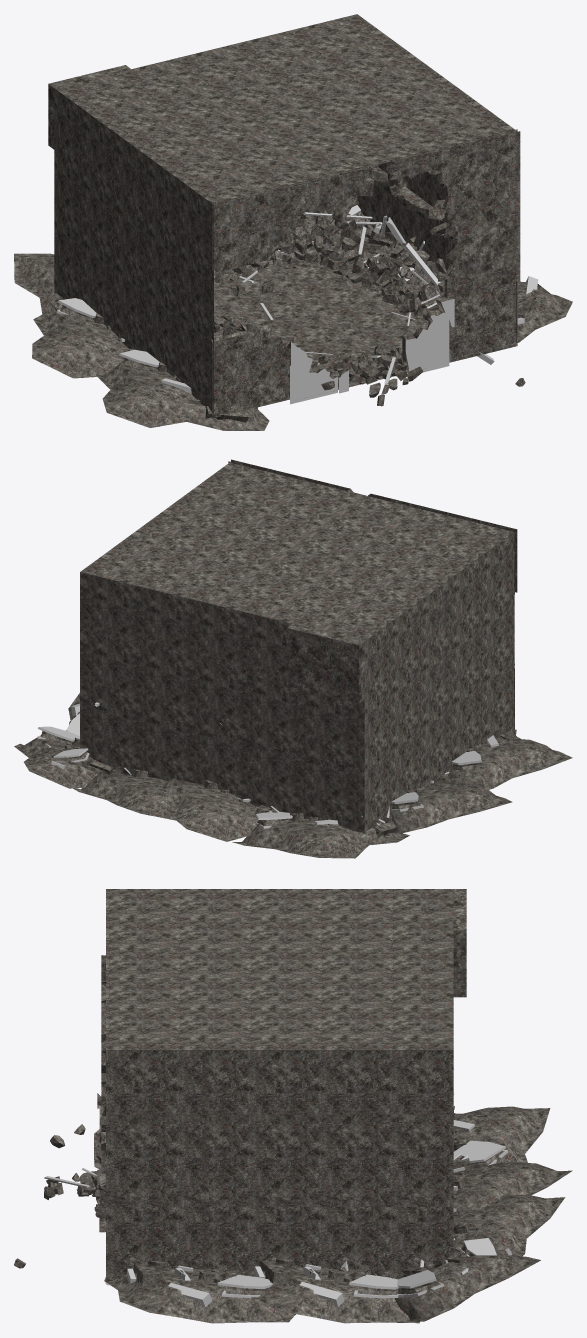
File: Willarea.fbx
3 views of the same model, one above another, from view 1: azimuth 30°, elevation 25°; view 2: azimuth 150°, elevation 25°; view 3: azimuth 270°, elevation 25° (orthographic). The views are drawn at different scales.
Parts seen in each view (by area): view 1: LODGroup_1_MainMesh_1_SubMesh_5, LODGroup_1_MainMesh_1_SubMesh_1, LODGroup_1_MainMesh_1_SubMesh_3, LODGroup_1_MainMesh_1_SubMesh_4, LODGroup_1_MainMesh_1_SubMesh_2; view 2: LODGroup_1_MainMesh_1_SubMesh_5, LODGroup_1_MainMesh_1_SubMesh_1, LODGroup_1_MainMesh_1_SubMesh_2; view 3: LODGroup_1_MainMesh_1_SubMesh_5, LODGroup_1_MainMesh_1_SubMesh_1, LODGroup_1_MainMesh_1_SubMesh_2.
Boxes of the visible parts, box(x1,y1,x2,y2) form: LODGroup_1_MainMesh_1_SubMesh_5: box(48, 14, 520, 418); LODGroup_1_MainMesh_1_SubMesh_1: box(14, 145, 572, 430); LODGroup_1_MainMesh_1_SubMesh_3: box(290, 299, 454, 404); LODGroup_1_MainMesh_1_SubMesh_4: box(239, 212, 494, 384); LODGroup_1_MainMesh_1_SubMesh_2: box(56, 205, 538, 393); LODGroup_1_MainMesh_1_SubMesh_5: box(80, 459, 517, 834); LODGroup_1_MainMesh_1_SubMesh_1: box(14, 586, 572, 858); LODGroup_1_MainMesh_1_SubMesh_2: box(37, 703, 498, 828); LODGroup_1_MainMesh_1_SubMesh_5: box(97, 889, 466, 1280); LODGroup_1_MainMesh_1_SubMesh_1: box(14, 1050, 572, 1323); LODGroup_1_MainMesh_1_SubMesh_2: box(126, 1120, 512, 1307).
Bounding box in the file's own units: 3979 × 2022 × 3759.
